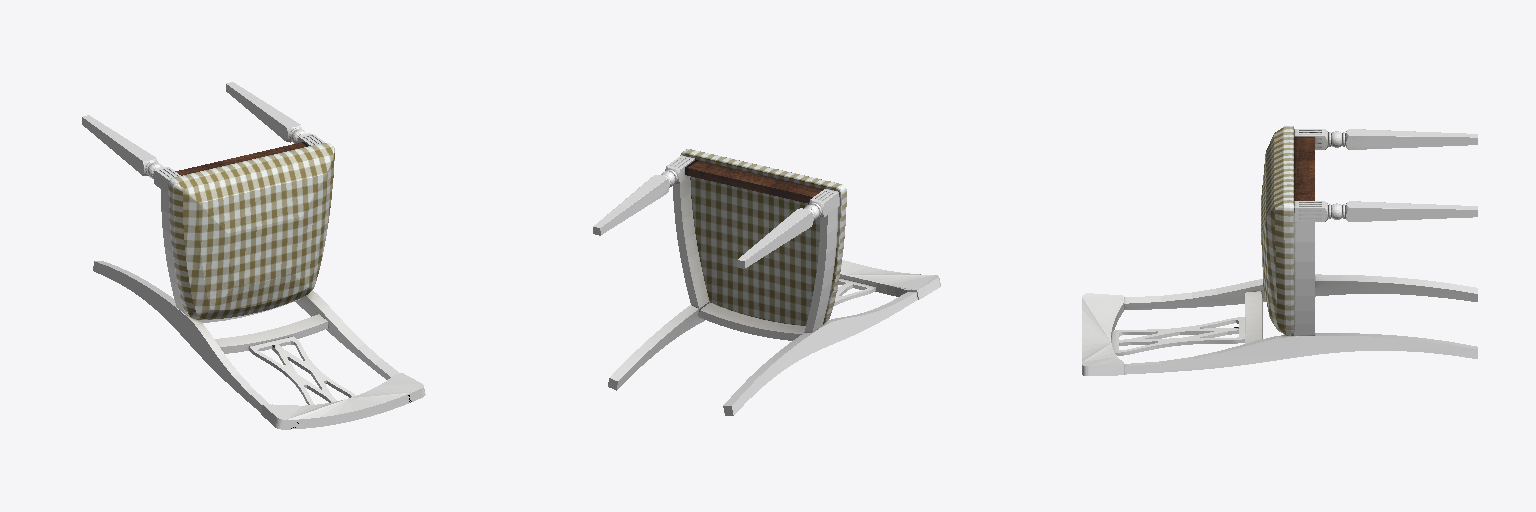
The picture shows the model from 3 angles: view 1: azimuth 30°, elevation 25°; view 2: azimuth 150°, elevation 25°; view 3: azimuth 270°, elevation 25°; orthographic projection.
Bounding box in the file's own units: 0.4512 × 0.4889 × 0.9509.
Materials: 1 (1 with a texture image).